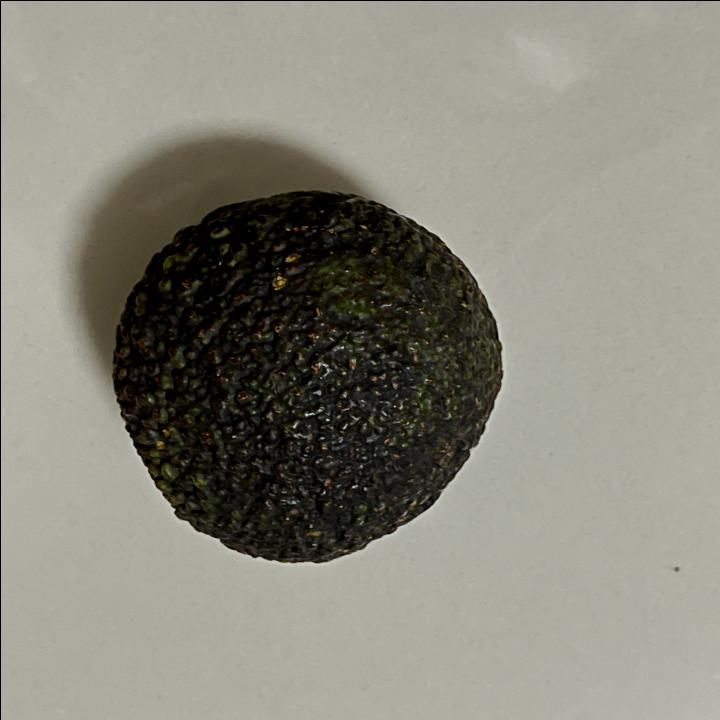Level1: (97, 178, 516, 578)
